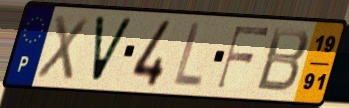4: (128, 17, 172, 89)
B: (253, 26, 312, 95)
F: (214, 24, 273, 91)
L: (170, 20, 205, 91)
V: (90, 13, 136, 86)
X: (33, 13, 91, 83)
